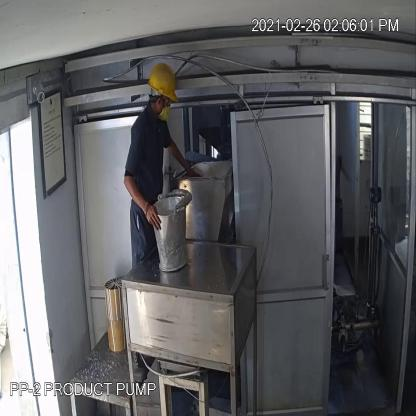helmet: (147, 54, 181, 107)
